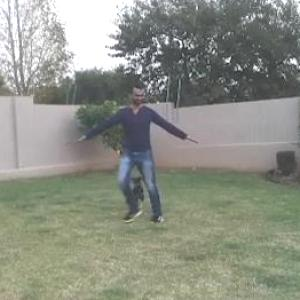land: (80, 91, 190, 220)
